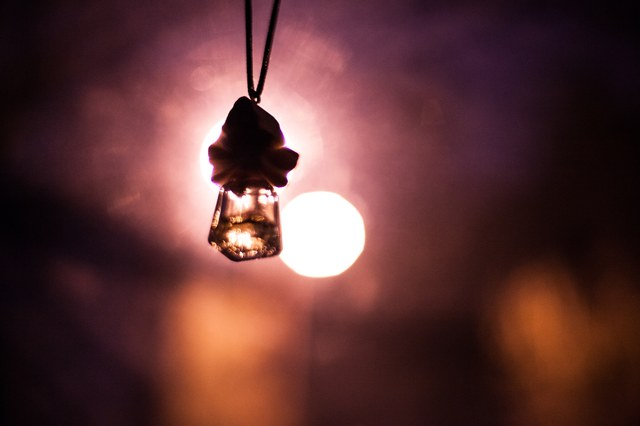Surf Excel Liquid Detergent: (32, 21, 608, 405)
